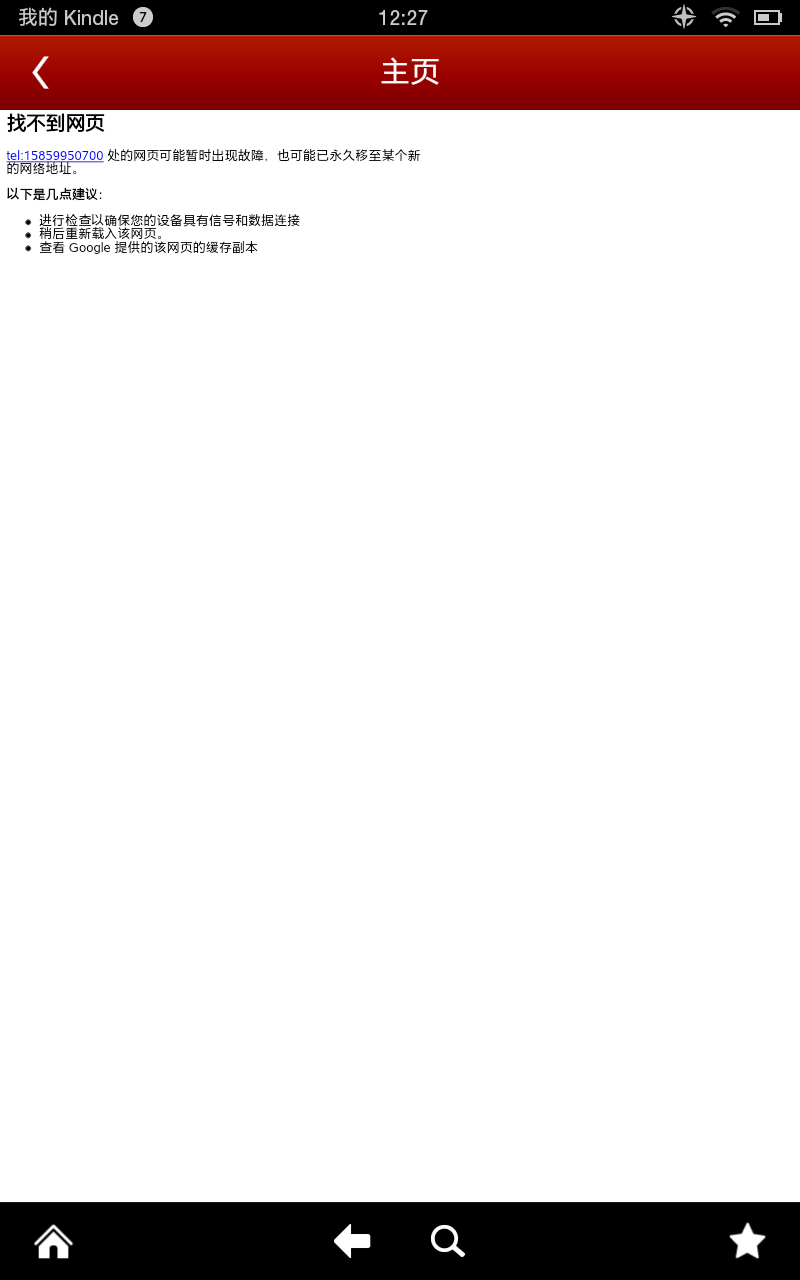textview: (3, 110, 800, 452)
